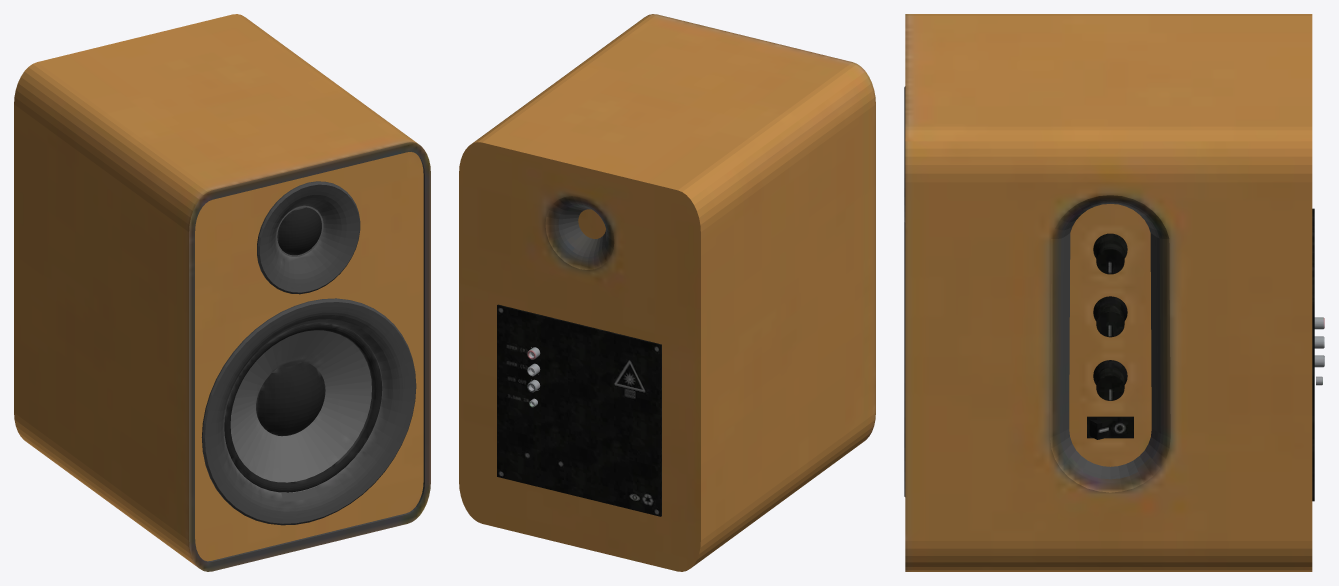
File: Audio.glb
3 renders of one model, left to right at view 1: azimuth 30°, elevation 25°; view 2: azimuth 150°, elevation 25°; view 3: azimuth 270°, elevation 25°, orthographic. The views are drawn at different scales.
Parts seen in each view (by area): view 1: Obj3d66-17550940-5-448, Obj3d66-17550940-4-819; view 2: Obj3d66-17550940-5-448, Obj3d66-17550940-3-66; view 3: Obj3d66-17550940-5-448, Obj3d66-17550940-3-66, Obj3d66-17550940-4-819.
Part boxes in pixels (box(x1,y1,x2,y2)): Obj3d66-17550940-5-448: box(14, 14, 430, 571); Obj3d66-17550940-4-819: box(201, 181, 416, 525); Obj3d66-17550940-5-448: box(459, 14, 875, 571); Obj3d66-17550940-3-66: box(497, 304, 661, 516); Obj3d66-17550940-5-448: box(905, 14, 1312, 571); Obj3d66-17550940-3-66: box(1087, 208, 1314, 501); Obj3d66-17550940-4-819: box(904, 86, 905, 496).
Size of the model in its own units: 0.6794 by 0.9929 by 0.8528.
4 materials, 4 textured.
